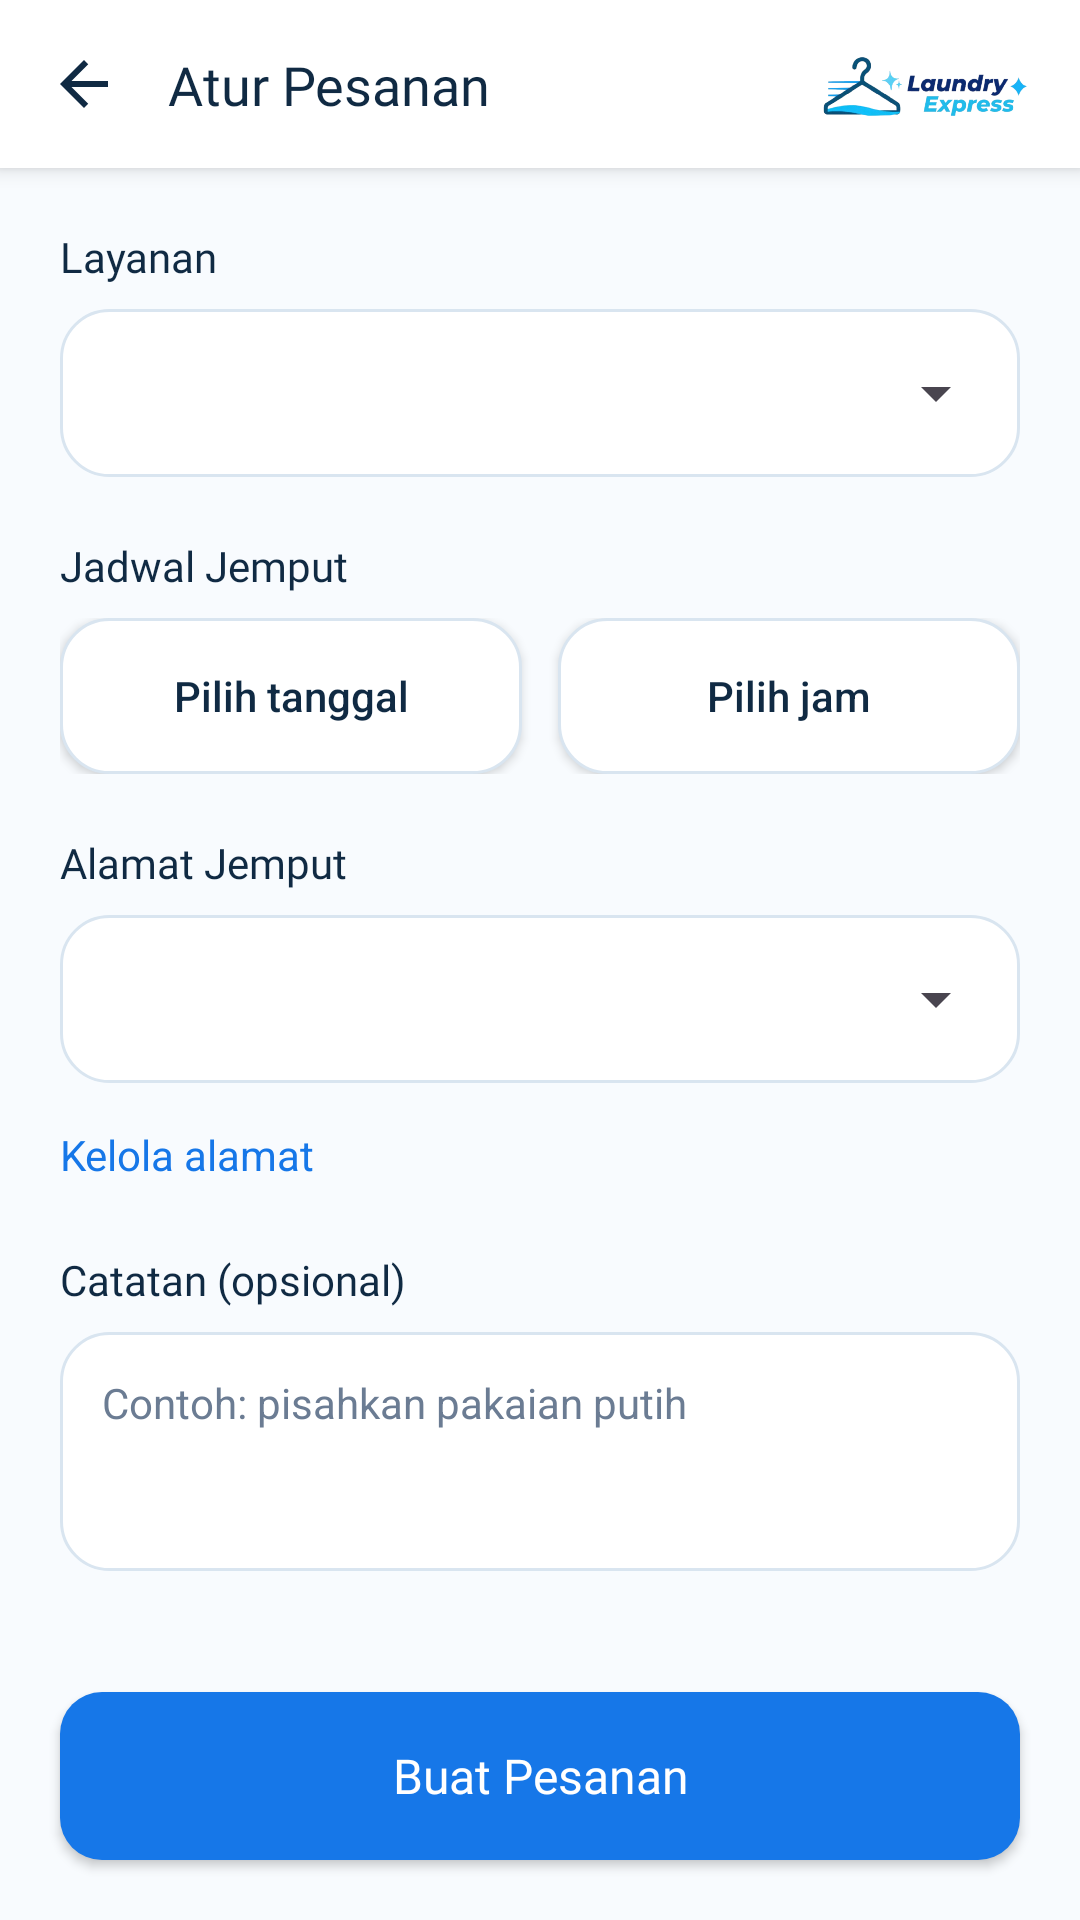

Icons on this 1080 x 1920 Android screen, each with the point to tap as (x=x, y=y):
Kembali: (x=84, y=84)
